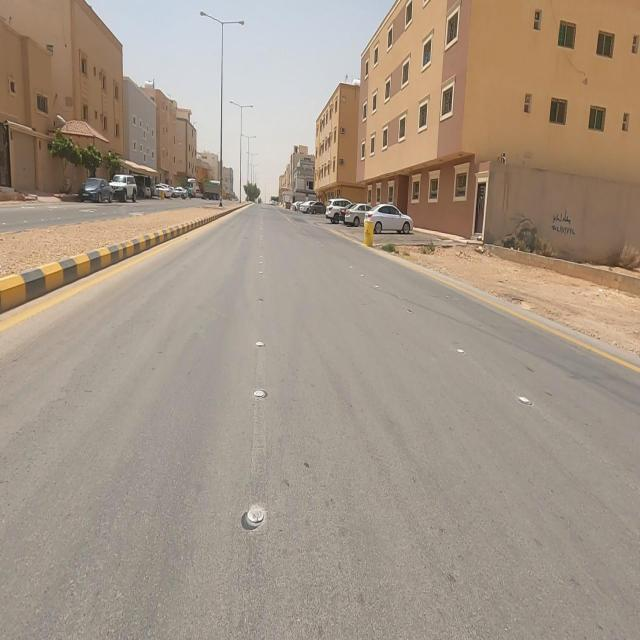Graffiti: (553, 209, 577, 237)
